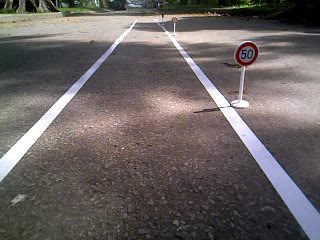limit 50: (232, 40, 261, 68)
